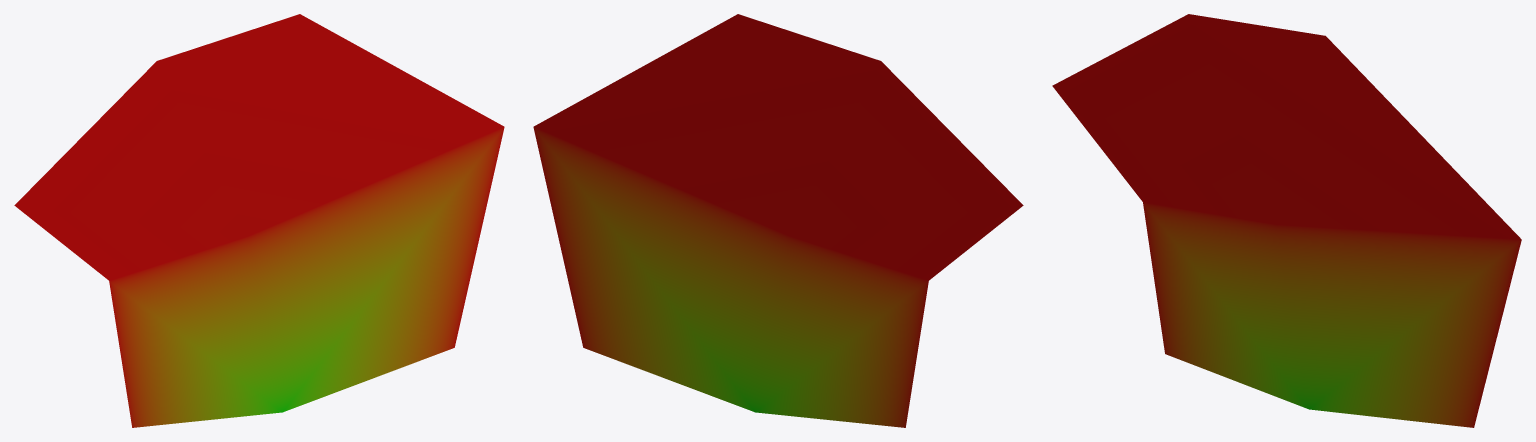
File: Field Poppy_LOD4_Var7_vmcobd0ja.fbx
3 renders of one model, left to right at view 1: azimuth 30°, elevation 25°; view 2: azimuth 150°, elevation 25°; view 3: azimuth 330°, elevation 25°, orthographic. The views are drawn at different scales.
Parts seen in each view (by area): view 1: _bwu3_Var7_LOD4; view 2: _bwu3_Var7_LOD4; view 3: _bwu3_Var7_LOD4.
Boxes of the visible parts, bbox=[...] form: _bwu3_Var7_LOD4: bbox=[14, 14, 504, 427]; _bwu3_Var7_LOD4: bbox=[533, 14, 1023, 427]; _bwu3_Var7_LOD4: bbox=[1052, 14, 1521, 427].
Size of the model in its own units: 66.6 by 51.18 by 6.1e-06.
